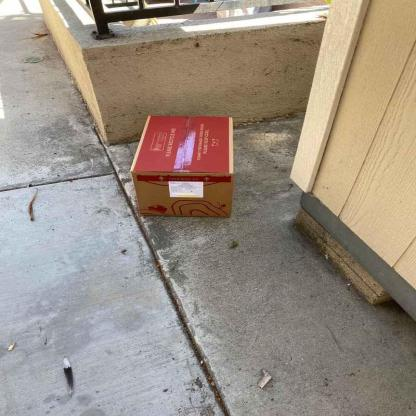label: (169, 180, 204, 199)
package: (132, 114, 233, 218)
